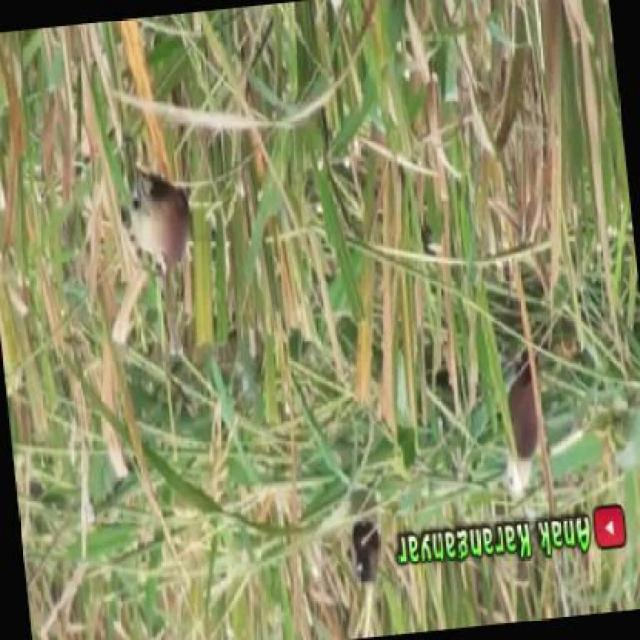Bird: (489, 352, 557, 506), (111, 167, 191, 280), (340, 519, 387, 587)
